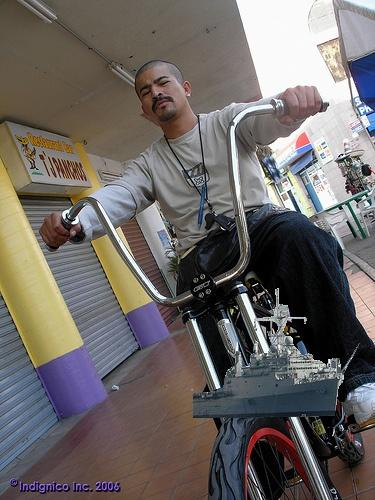tampered: (194, 289, 360, 418)
